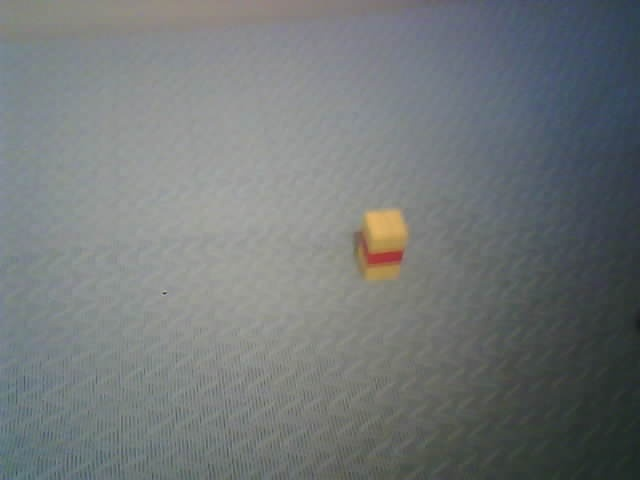lego: (356, 208, 409, 281)
